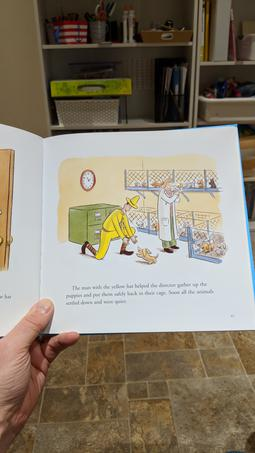text block: (61, 276, 218, 314), (1, 291, 14, 310)
